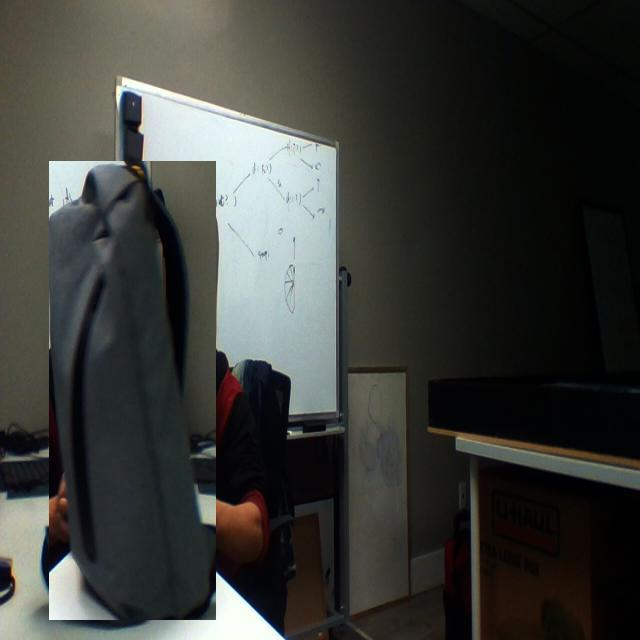Backpacks: (49, 161, 217, 621)
